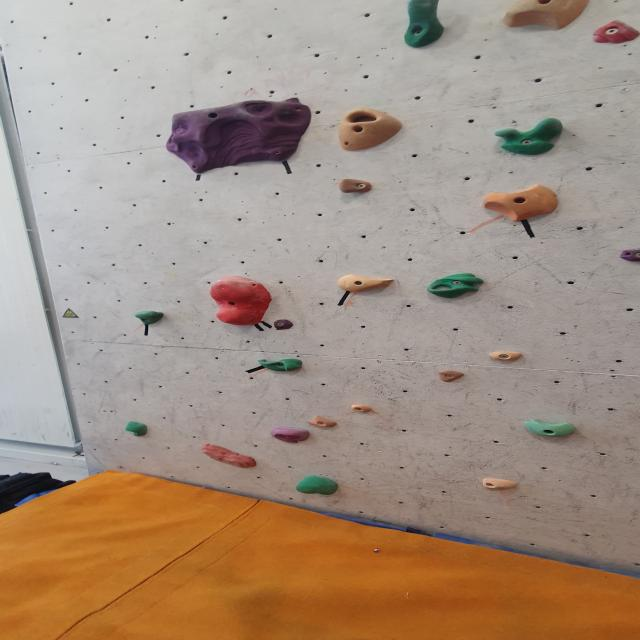Crimp: (162, 96, 316, 176), (591, 20, 640, 48), (482, 478, 520, 493), (488, 351, 526, 365), (434, 369, 469, 384), (349, 405, 373, 415)
Jug: (387, 0, 458, 51), (489, 118, 569, 159), (517, 419, 581, 440), (328, 175, 384, 196), (130, 309, 168, 337), (257, 356, 306, 374)
Pinch: (476, 183, 568, 226), (496, 0, 598, 31), (333, 274, 396, 294), (306, 415, 340, 431)
Pocket: (329, 105, 415, 154), (422, 272, 490, 299)
Sloper: (207, 274, 276, 326), (198, 444, 259, 472), (294, 474, 341, 498), (268, 426, 312, 444), (125, 421, 152, 438)
